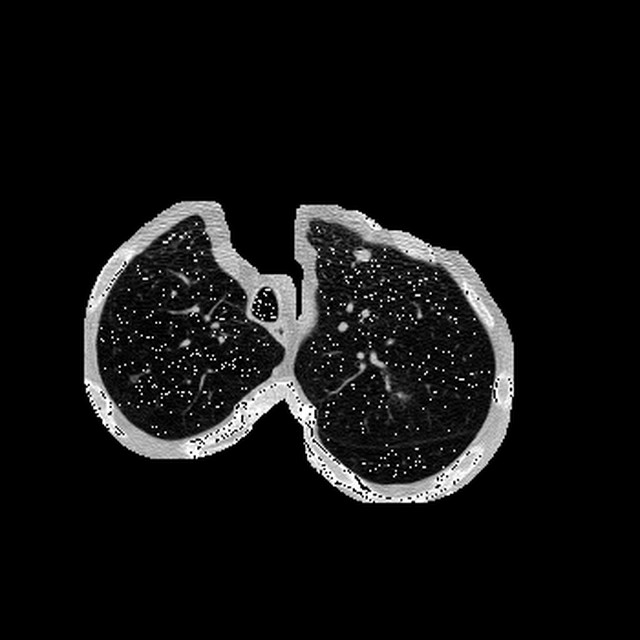PN: (357, 249, 371, 263)
